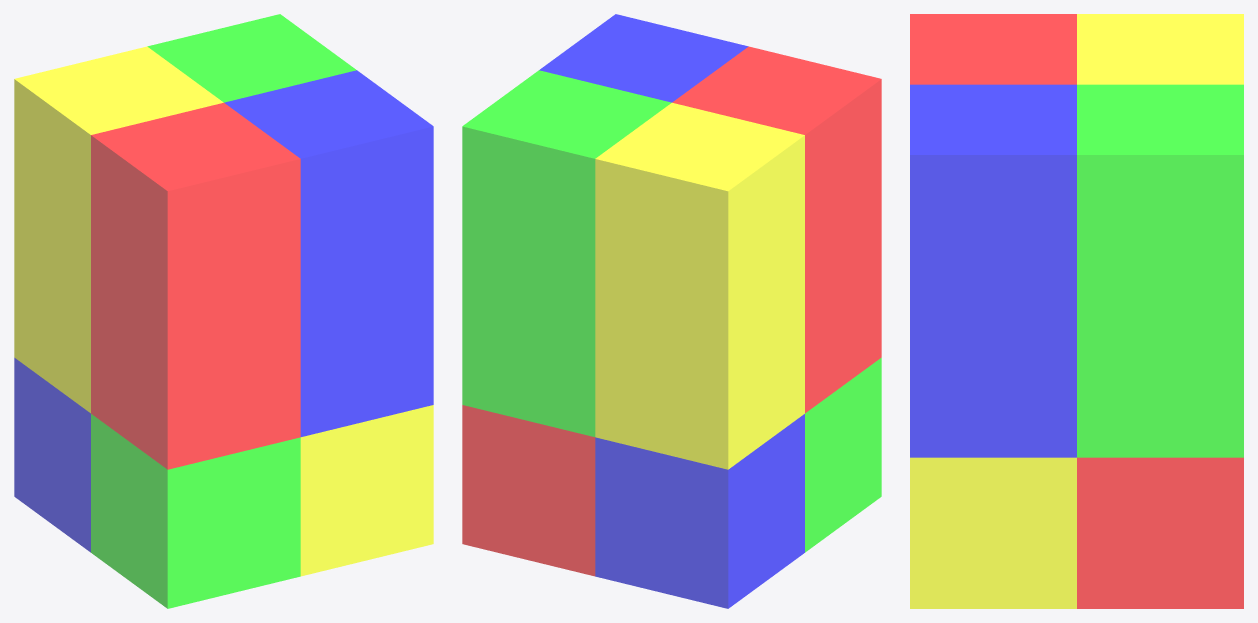
Rendered from BOXIIM.glb.
The picture shows the model from 3 angles, left to right: view 1: azimuth 30°, elevation 25°; view 2: azimuth 150°, elevation 25°; view 3: azimuth 270°, elevation 25°; orthographic projection. The views are drawn at different scales.
Visible parts, largest first — view 1: Red, Blue, Yellow, Green; view 2: Yellow, Green, Red, Blue; view 3: Blue, Green, Red, Yellow.
Part boxes in pixels (bbox=[...]): Red: bbox=[91, 102, 300, 608]; Blue: bbox=[224, 70, 433, 576]; Yellow: bbox=[14, 46, 223, 552]; Green: bbox=[147, 14, 356, 102]; Yellow: bbox=[595, 102, 804, 608]; Green: bbox=[462, 70, 671, 576]; Red: bbox=[672, 46, 881, 552]; Blue: bbox=[539, 14, 748, 102]; Blue: bbox=[910, 84, 1076, 608]; Green: bbox=[1077, 84, 1243, 608]; Red: bbox=[910, 14, 1076, 84]; Yellow: bbox=[1077, 14, 1243, 84].
Size of the model in its own units: 2 by 3 by 2.
